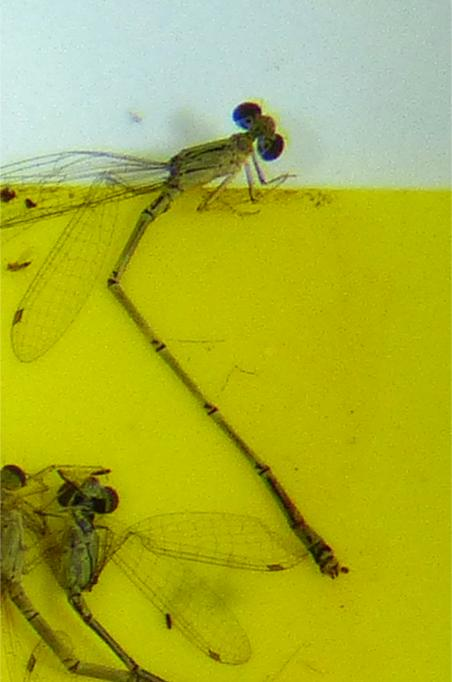Nematocera: (3, 257, 33, 275)
Odonata: (100, 100, 352, 582)
